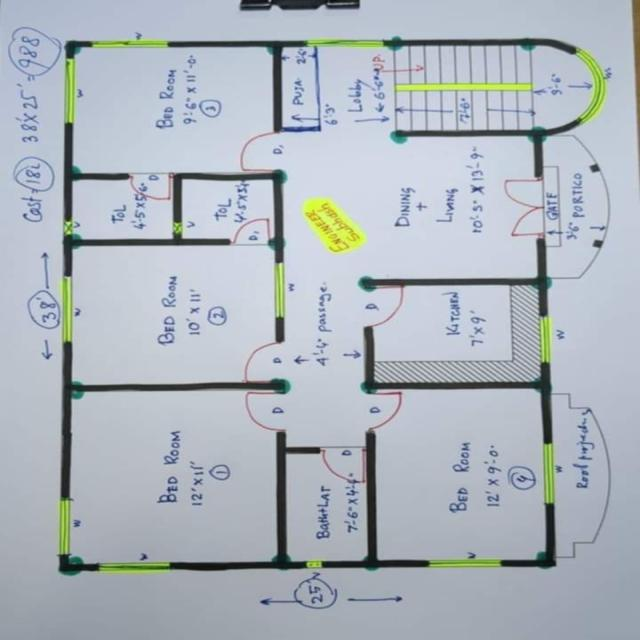column: (530, 552, 565, 574), (530, 372, 559, 398), (54, 557, 90, 577), (56, 378, 86, 401), (380, 33, 412, 54), (358, 554, 391, 574), (355, 377, 384, 399), (56, 233, 86, 254), (267, 376, 298, 396), (517, 31, 543, 54), (270, 553, 297, 574), (266, 166, 292, 187), (385, 127, 412, 146), (354, 274, 381, 293), (524, 124, 549, 144), (58, 165, 84, 184), (530, 272, 556, 291), (262, 37, 289, 55), (266, 235, 288, 255), (61, 38, 84, 56)
